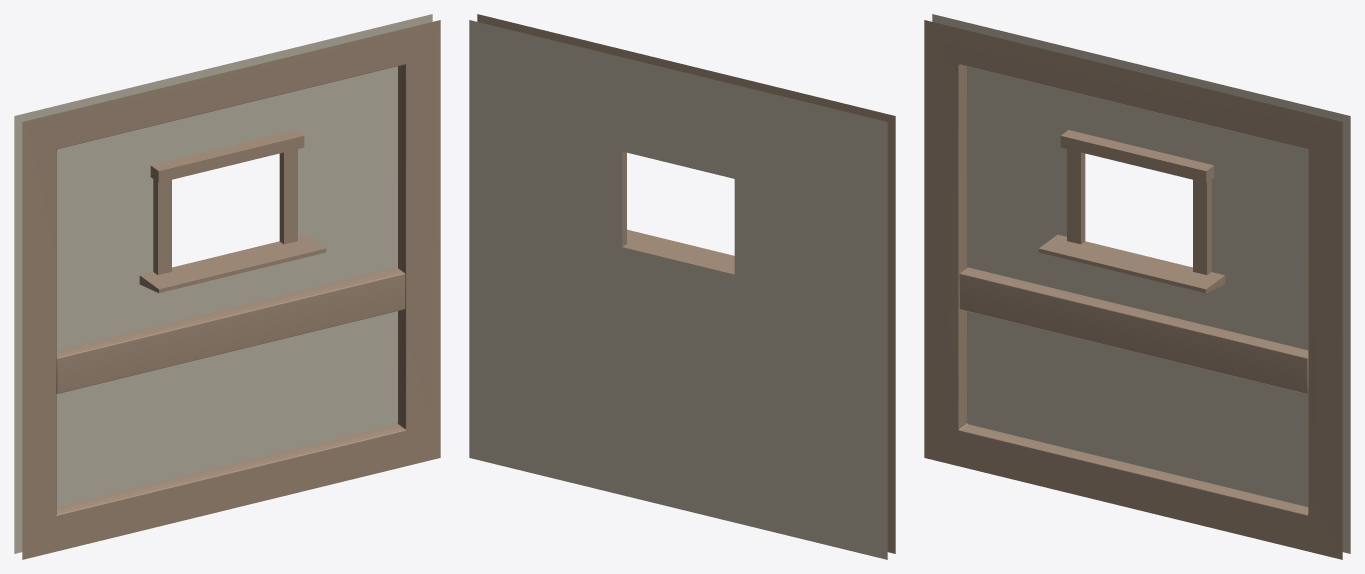
File: tav_windowwall.fbx
3 renders of one model, left to right at view 1: azimuth 30°, elevation 25°; view 2: azimuth 150°, elevation 25°; view 3: azimuth 330°, elevation 25°, orthographic.
Visible parts, largest first — view 1: wall, wallframe, bwall, windowframe; view 2: wall, bwall, wallframe, windowframe; view 3: wall, wallframe, bwall, windowframe.
Part boxes in pixels (left/top/right/bottom): wall: left=14, top=14, right=432, bottom=553; wallframe: left=22, top=20, right=440, bottom=559; bwall: left=14, top=15, right=432, bottom=552; windowframe: left=139, top=130, right=326, bottom=292; wall: left=469, top=20, right=887, bottom=559; bwall: left=469, top=21, right=887, bottom=557; wallframe: left=477, top=14, right=895, bottom=553; windowframe: left=622, top=151, right=734, bottom=274; wall: left=932, top=14, right=1350, bottom=553; wallframe: left=924, top=20, right=1342, bottom=559; bwall: left=933, top=15, right=1350, bottom=553; windowframe: left=1038, top=130, right=1225, bottom=292.
Size of the model in its own units: 300 by 300 by 23.79.
